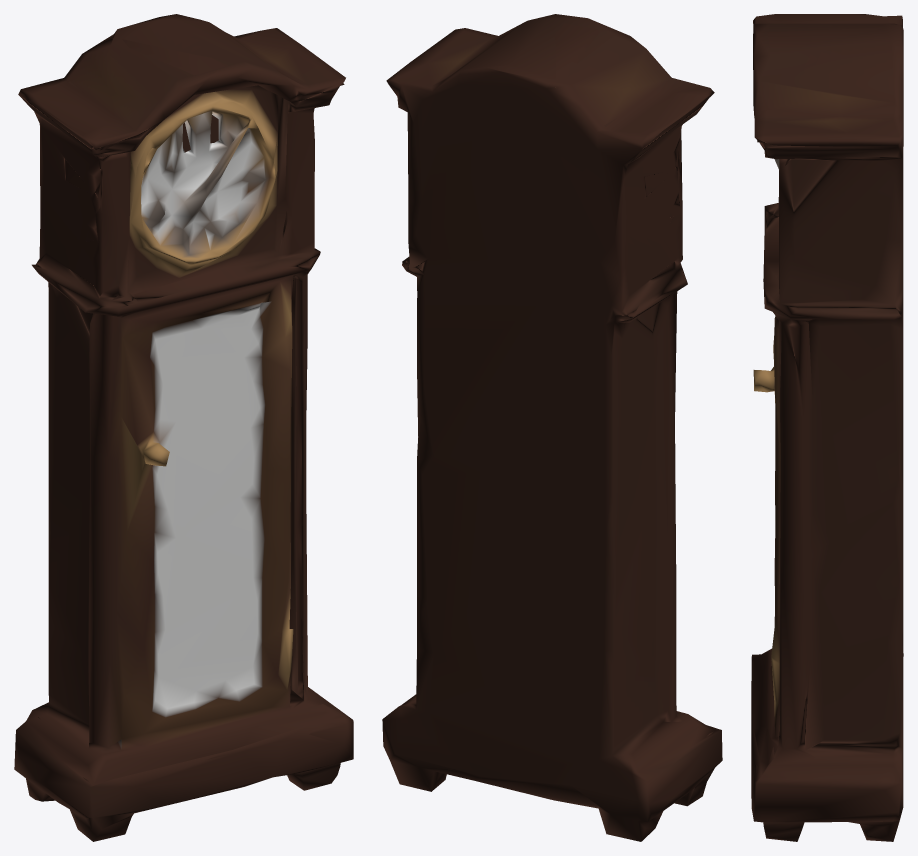
Rendered from gen3d-grandfather-clock-lod0.glb.
The picture shows the model from 3 angles, left to right: view 1: azimuth 30°, elevation 25°; view 2: azimuth 150°, elevation 25°; view 3: azimuth 270°, elevation 25°; orthographic projection.
Parts seen in each view (by area): view 1: part_0; view 2: part_0; view 3: part_0.
Boxes of the visible parts, x1,y1,x2,y2 form: part_0: (14,14,353,841); part_0: (382,14,722,841); part_0: (751,14,903,841).
Size of the model in its own units: 0.3747 by 1 by 0.1844.
